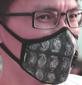with_mask: (2, 1, 82, 85)
